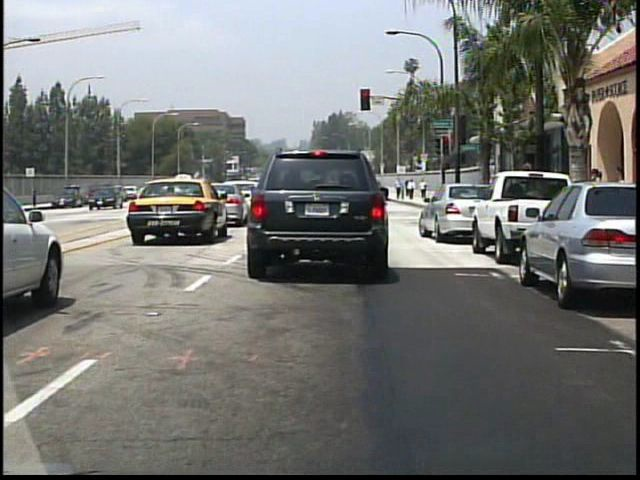person: (587, 164, 609, 233), (420, 178, 429, 200), (397, 176, 405, 199), (408, 177, 416, 200)
